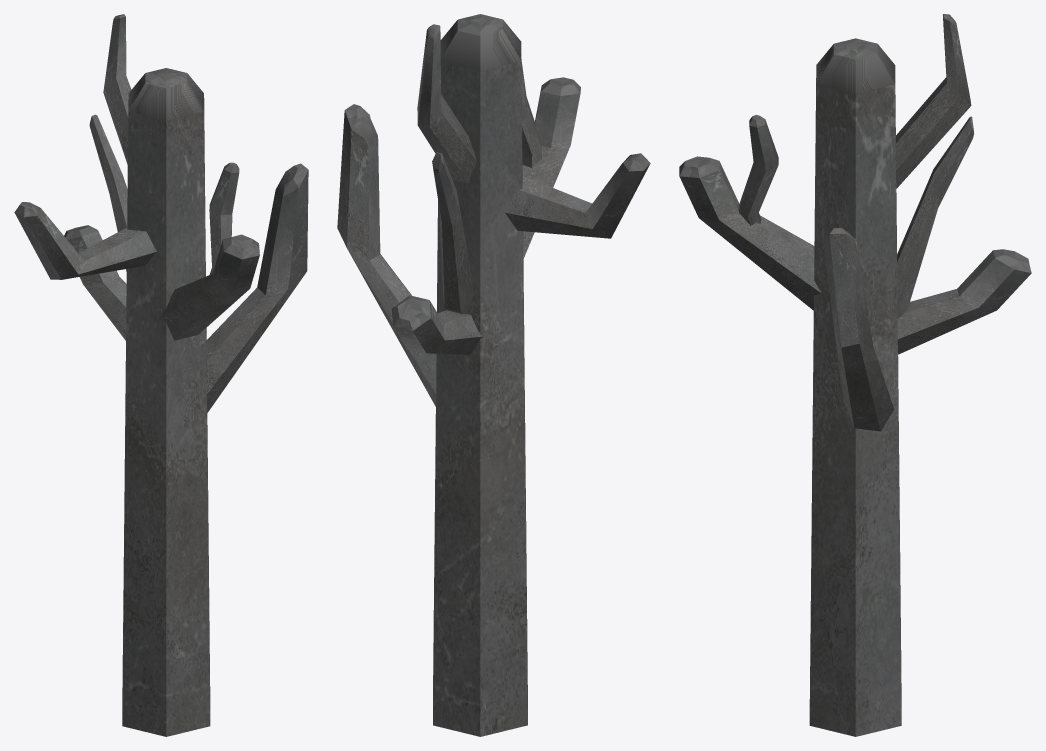
The model's file is cactus.fbx.
3 views of the same model, side by side, from view 1: azimuth 30°, elevation 25°; view 2: azimuth 150°, elevation 25°; view 3: azimuth 270°, elevation 25° (orthographic). The views are drawn at different scales.
Visible parts, largest first — view 1: pCylinder4, pCylinder16, pCylinder12, pCylinder5, pCylinder14, pCylinder6, pCylinder10, pCylinder15; view 2: pCylinder4, pCylinder16, pCylinder12, pCylinder14, pCylinder5, pCylinder6, pCylinder15, pCylinder10; view 3: pCylinder4, pCylinder16, pCylinder5, pCylinder6, pCylinder14, pCylinder15, pCylinder10.
Part boxes in pixels (x1=…): pCylinder4: x1=122, y1=68, x2=210, y2=736; pCylinder16: x1=206, y1=163, x2=308, y2=412; pCylinder12: x1=14, y1=202, x2=156, y2=279; pCylinder5: x1=159, y1=234, x2=259, y2=340; pCylinder14: x1=103, y1=14, x2=131, y2=164; pCylinder6: x1=64, y1=225, x2=126, y2=340; pCylinder10: x1=209, y1=162, x2=239, y2=274; pCylinder15: x1=89, y1=114, x2=127, y2=271; pCylinder4: x1=433, y1=14, x2=527, y2=736; pCylinder16: x1=337, y1=104, x2=436, y2=406; pCylinder12: x1=504, y1=153, x2=650, y2=238; pCylinder14: x1=417, y1=24, x2=476, y2=183; pCylinder5: x1=522, y1=77, x2=580, y2=258; pCylinder6: x1=391, y1=295, x2=482, y2=354; pCylinder15: x1=432, y1=152, x2=473, y2=314; pCylinder10: x1=521, y1=59, x2=541, y2=167; pCylinder4: x1=809, y1=38, x2=901, y2=736; pCylinder16: x1=823, y1=228, x2=894, y2=431; pCylinder5: x1=679, y1=156, x2=821, y2=310; pCylinder6: x1=897, y1=249, x2=1031, y2=354; pCylinder14: x1=896, y1=14, x2=971, y2=188; pCylinder15: x1=897, y1=116, x2=974, y2=318; pCylinder10: x1=738, y1=114, x2=778, y2=225.
Bounding box in the file's own units: 3.41 × 7.69 × 3.49.
